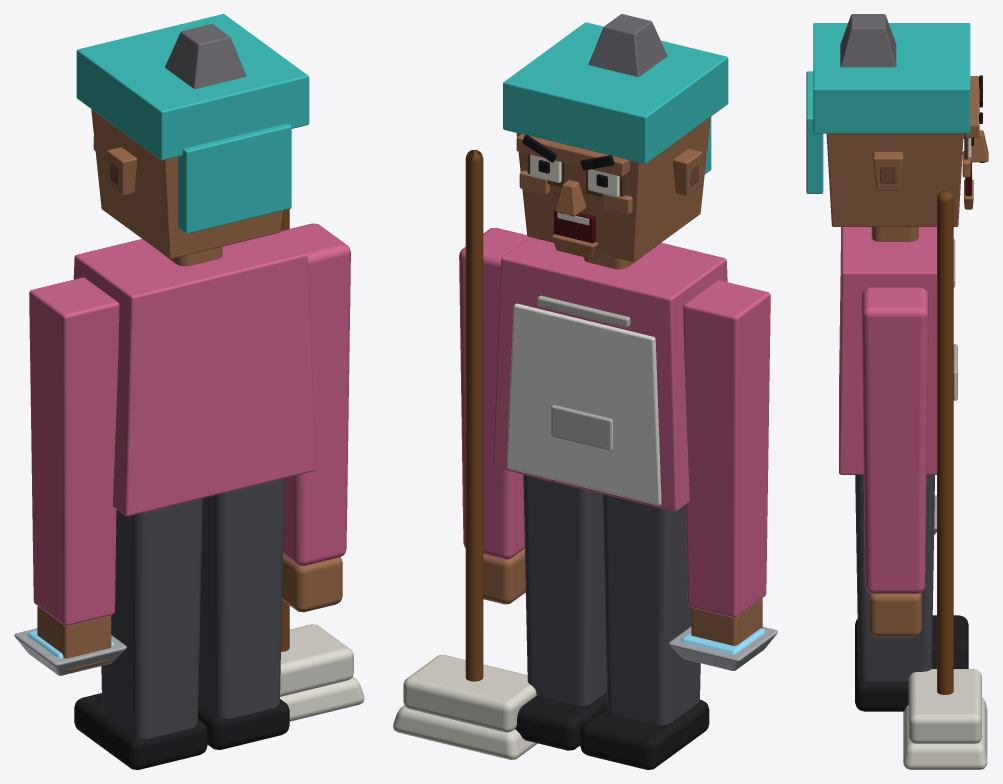
The model's file is sweeper.glb.
The picture shows the model from 3 angles, left to right: view 1: azimuth 30°, elevation 25°; view 2: azimuth 150°, elevation 25°; view 3: azimuth 270°, elevation 25°; orthographic projection. The views are drawn at different scales.
Parts seen in each view (by area): view 1: Torso, Head, ArmL, ArmR, LegL, LegR; view 2: Torso, Head, ArmL, ArmR, LegL, LegR; view 3: ArmR, Head, Torso, LegR, LegL, NeckMesh.
Part boxes in pixels (x1,y1,x2,y2): Torso: (73, 233, 315, 516); Head: (76, 14, 309, 258); ArmL: (14, 277, 126, 675); ArmR: (278, 209, 364, 721); LegL: (74, 498, 207, 769); LegR: (198, 478, 289, 749); Torso: (493, 237, 727, 511); Head: (503, 14, 728, 262); ArmL: (669, 280, 777, 670); ArmR: (393, 149, 537, 759); LegL: (580, 494, 709, 769); LegR: (515, 474, 607, 750); ArmR: (861, 190, 987, 769); Head: (806, 14, 988, 226); Torso: (839, 227, 957, 474); LegR: (855, 475, 968, 711); LegL: (855, 615, 968, 660); NeckMesh: (871, 227, 918, 241).
Size of the model in its own units: 1.06 by 2.21 by 0.5441.
